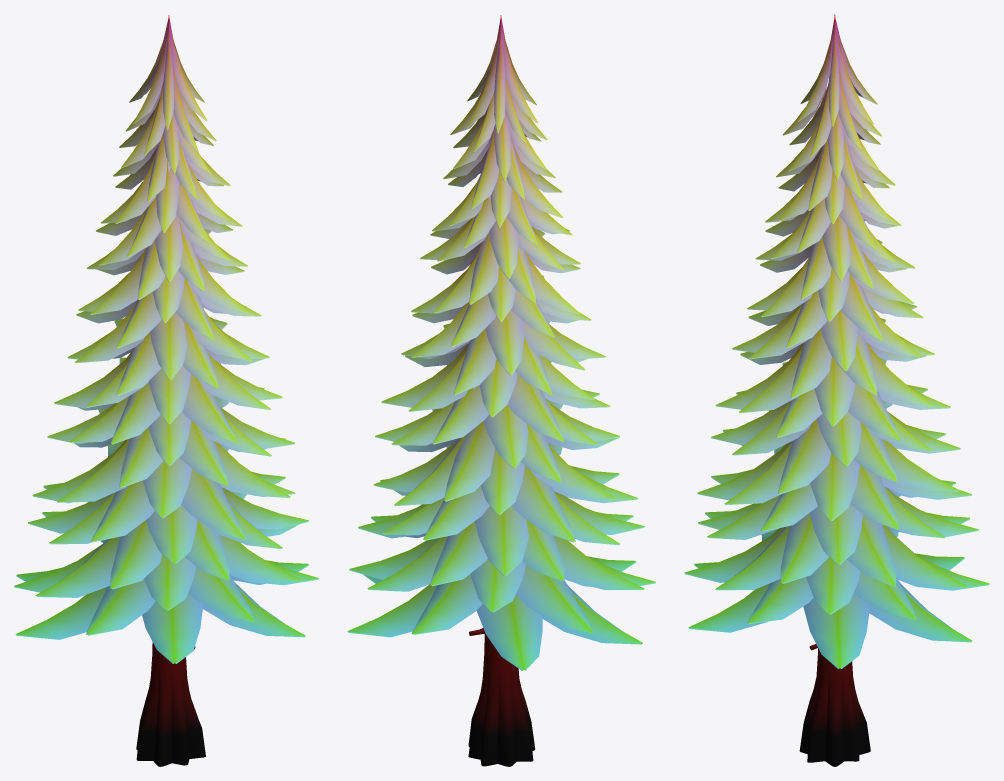
The model's file is Tree_C1_14m_1a.fbx.
3 renders of one model, left to right at view 1: azimuth 30°, elevation 25°; view 2: azimuth 150°, elevation 25°; view 3: azimuth 270°, elevation 25°, orthographic.
Visible parts, largest first — view 1: Tree_C1_14m_1a_LOD0; view 2: Tree_C1_14m_1a_LOD0; view 3: Tree_C1_14m_1a_LOD0.
Boxes of the visible parts, left/top/right/bottom form: Tree_C1_14m_1a_LOD0: left=14, top=15, right=318, bottom=766; Tree_C1_14m_1a_LOD0: left=347, top=15, right=655, bottom=766; Tree_C1_14m_1a_LOD0: left=684, top=14, right=989, bottom=766.
Size of what is drawn, in the model's own units: 5.98 by 14.56 by 5.47.
